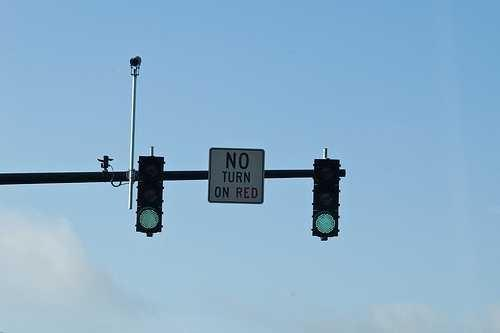green: (132, 150, 169, 244), (311, 156, 345, 244), (309, 212, 343, 242), (135, 209, 166, 238)
